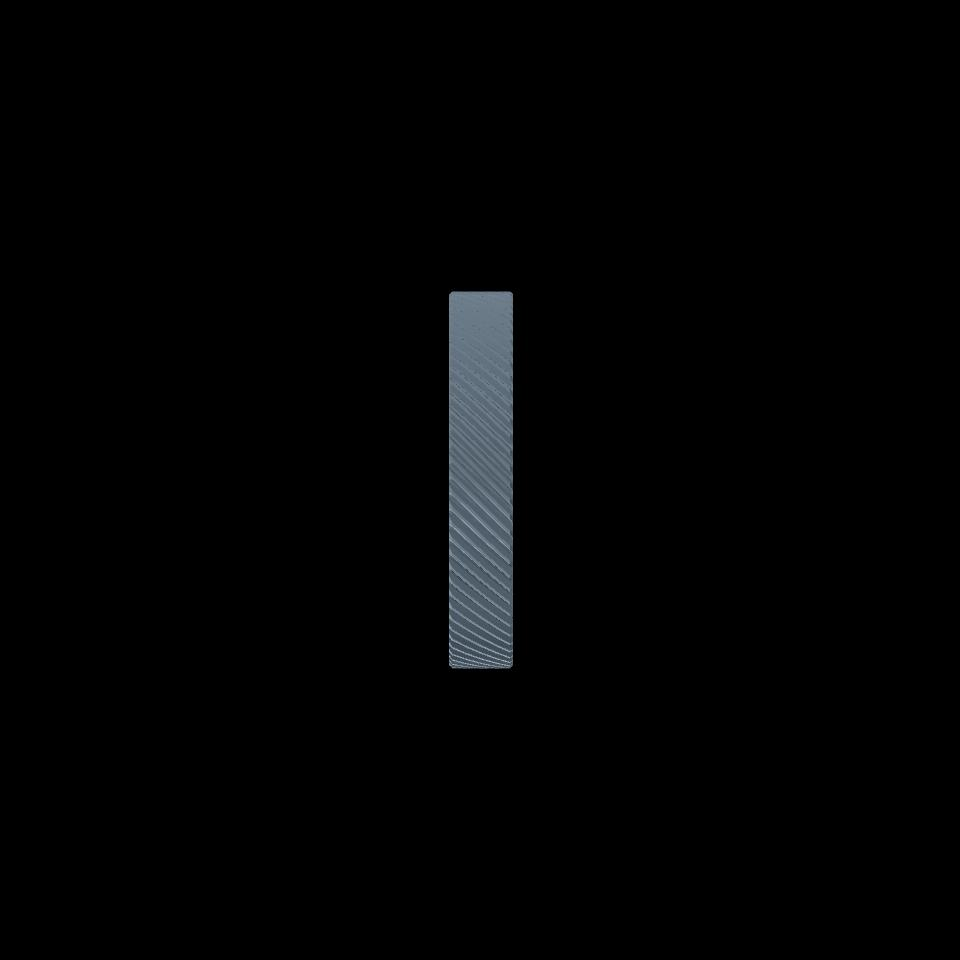Helical: (453, 291, 509, 668)
